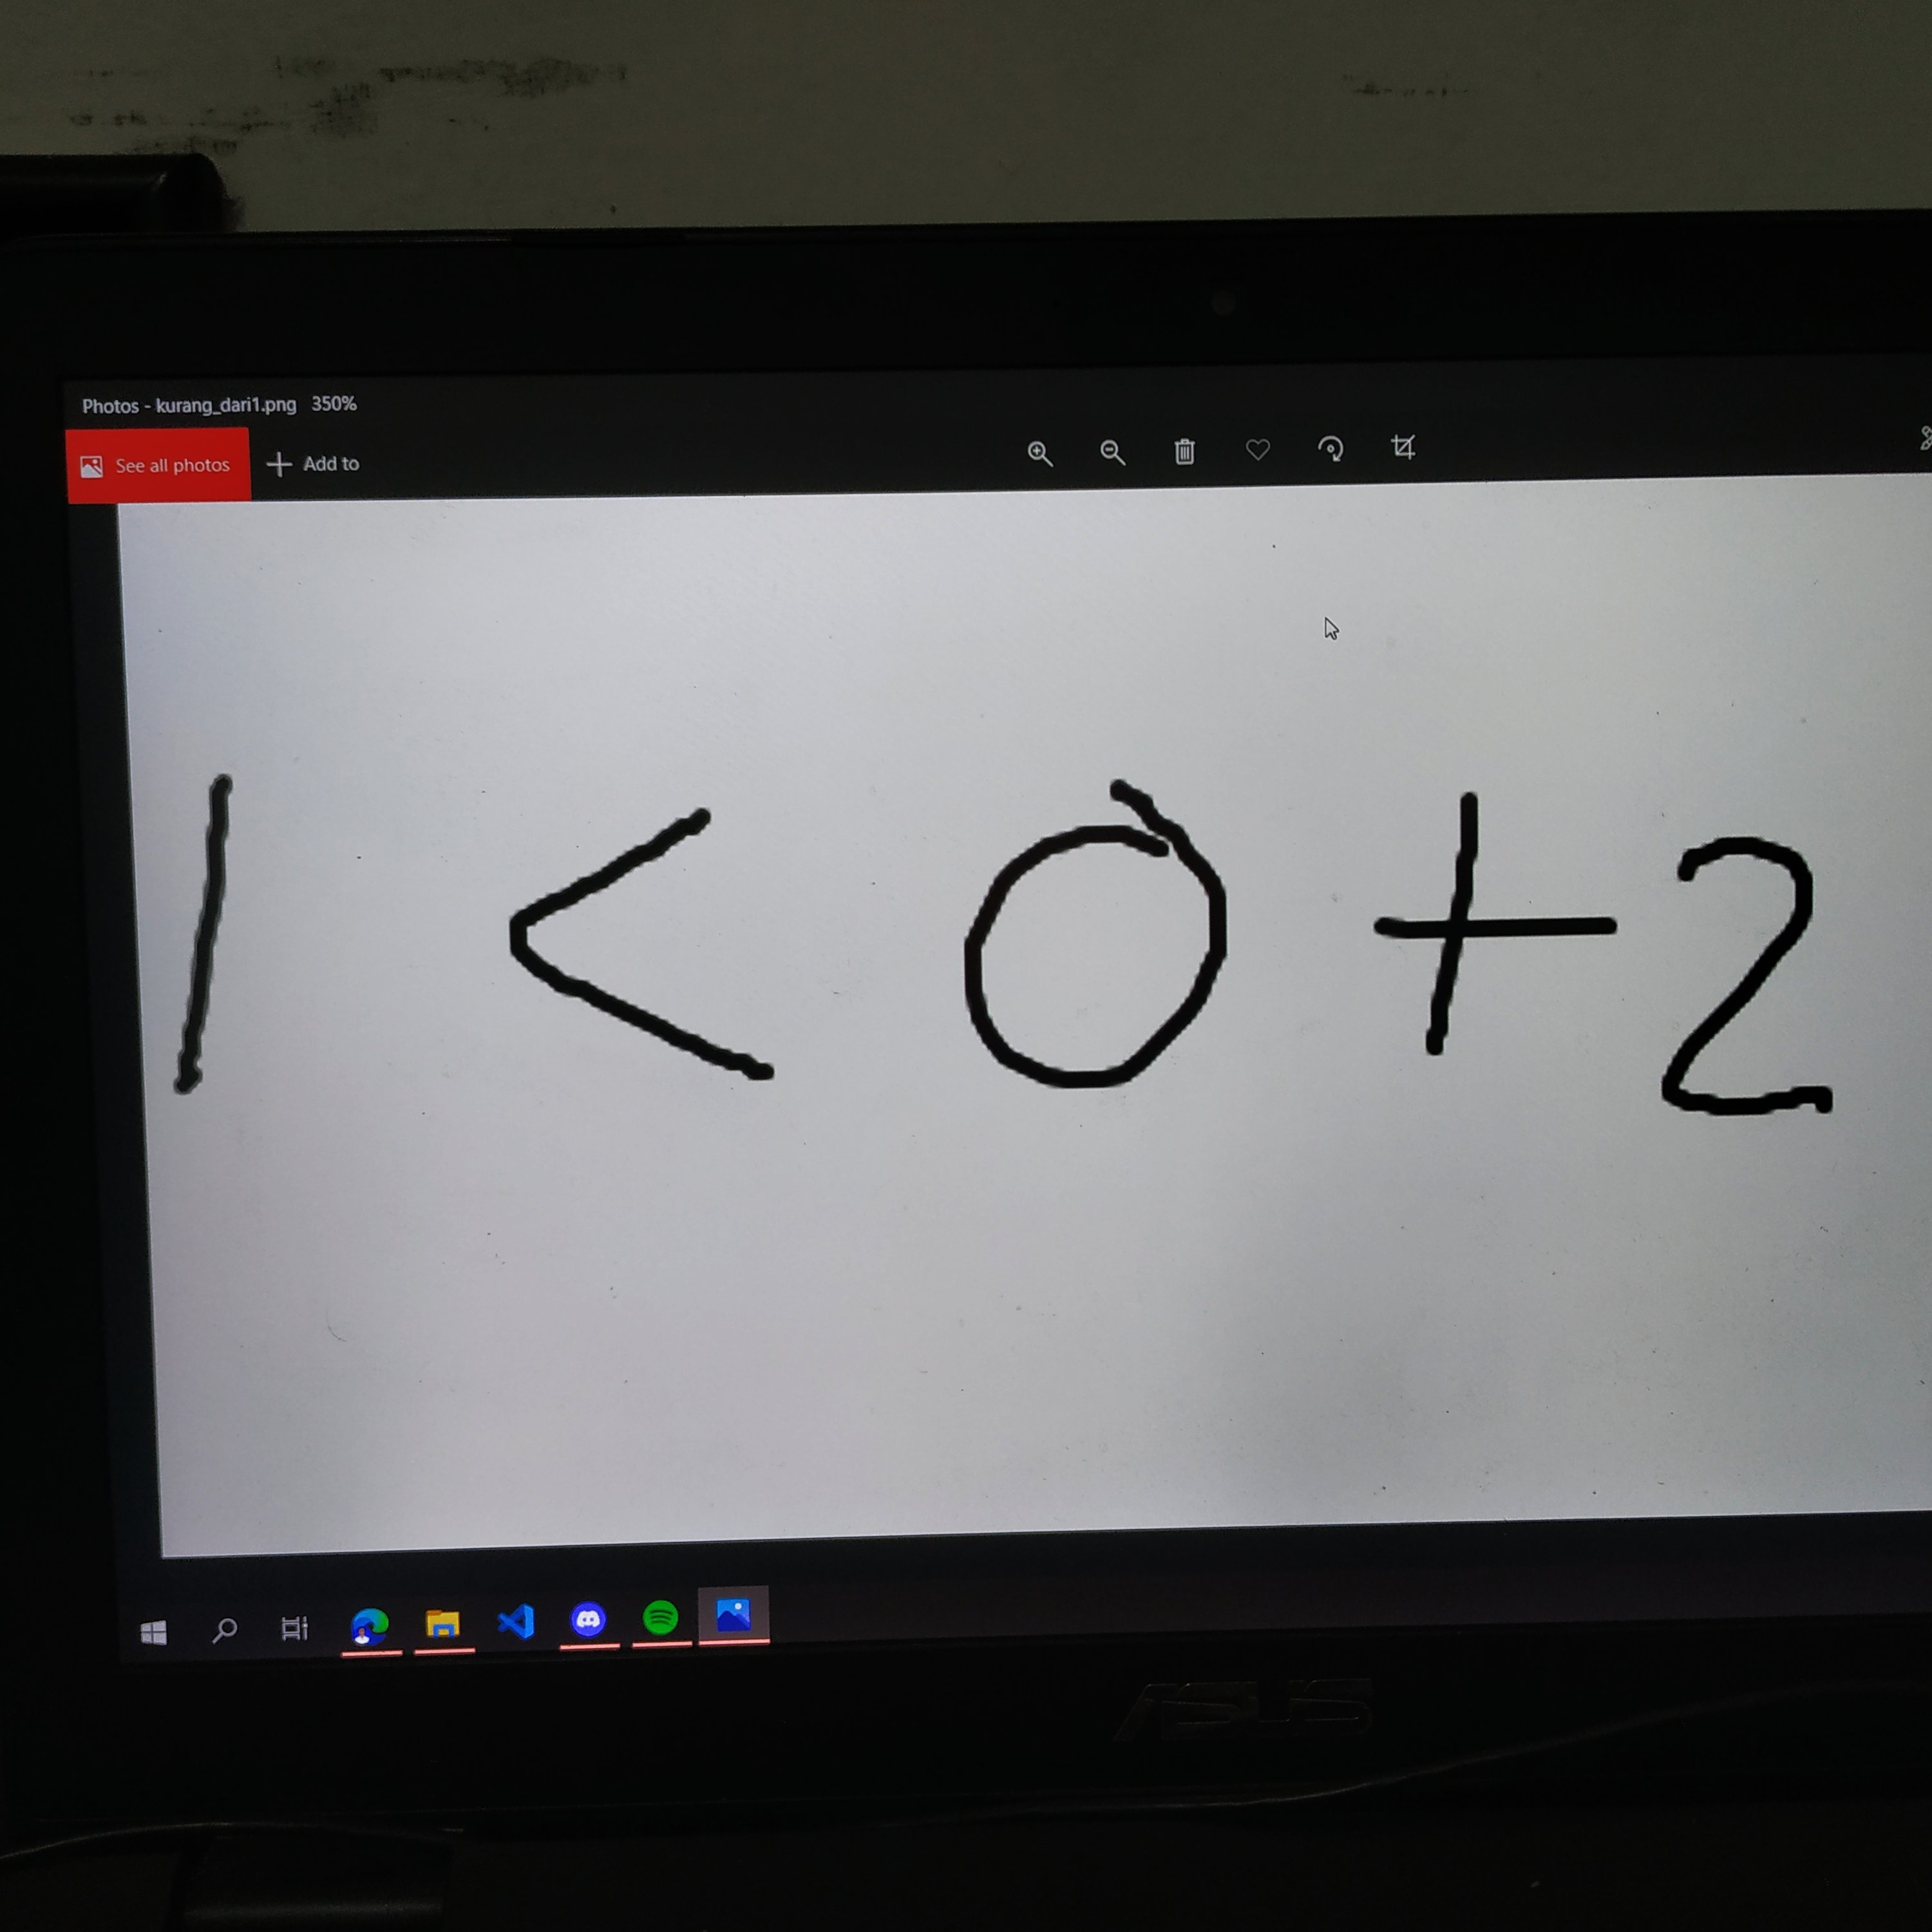lessthan: (474, 777, 842, 1142)
num0: (942, 773, 1253, 1117)
num1: (160, 746, 272, 1119)
num2: (1640, 808, 1868, 1153)
sum: (1343, 766, 1633, 1059)
